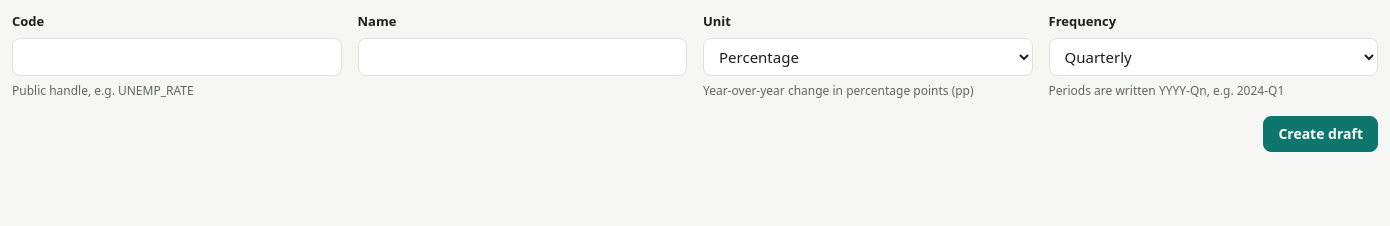
Scenario: IndicatorForm › marks fields the API rejected
Type "ABC" into the field labelled "Code" at x=177, y=56, box [12,38,342,76]
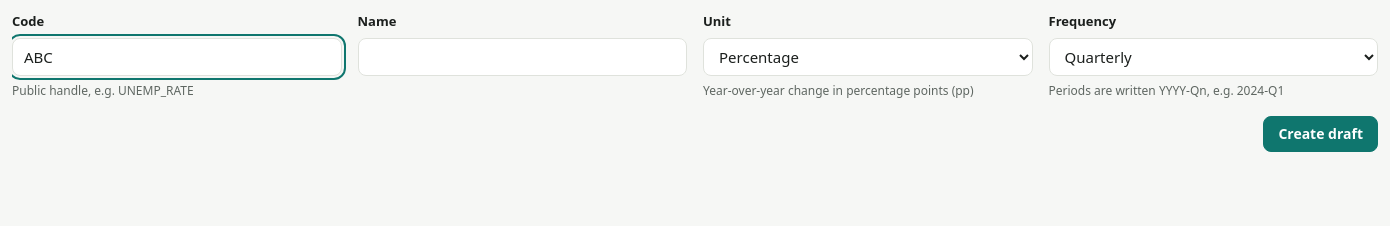
Type "Fine" into the field labelled "Name" at x=522, y=56, box [358,38,687,76]
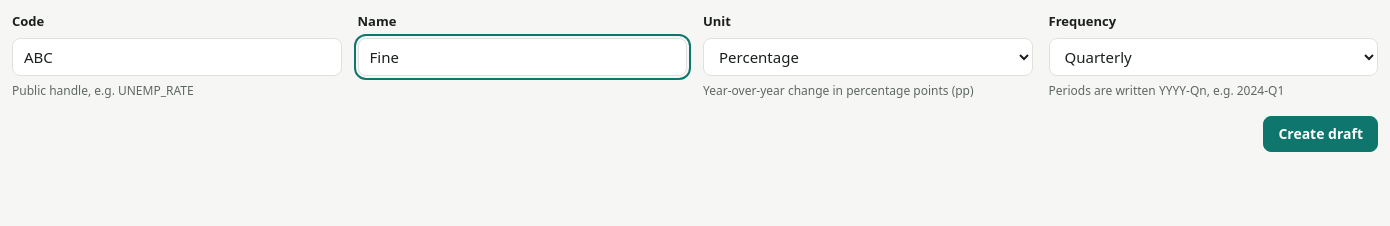
Click the button "Create draft" at x=1321, y=134, box [1263,116,1378,152]
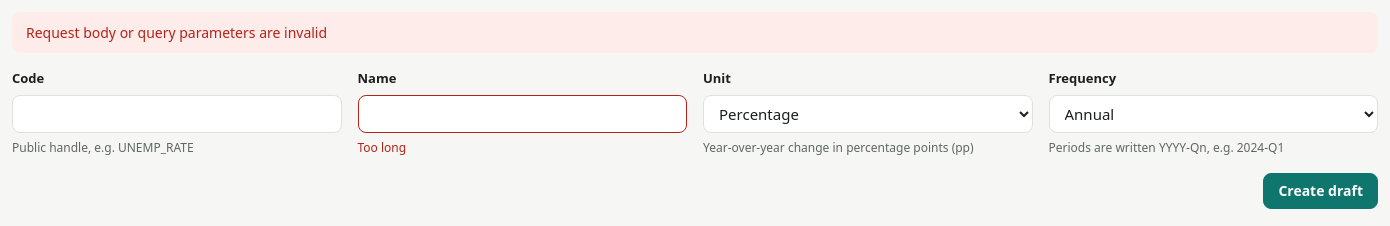
Check: the text "Too long" is shown, box [358,138,406,156]
